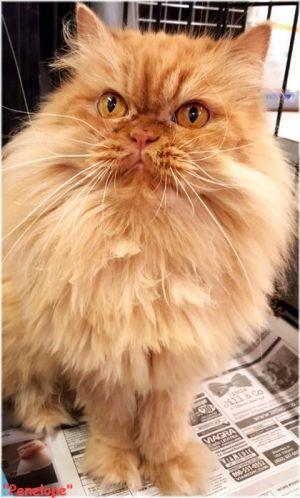persian: (32, 1, 282, 237)
